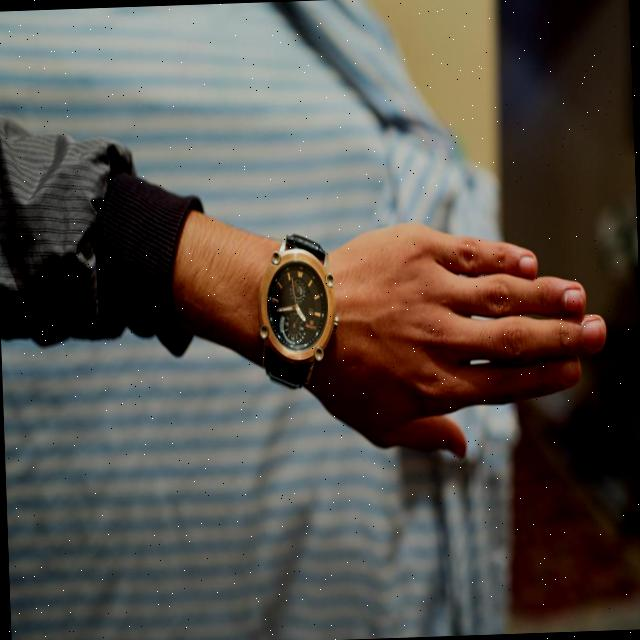Wrist watch: (255, 232, 343, 392)
